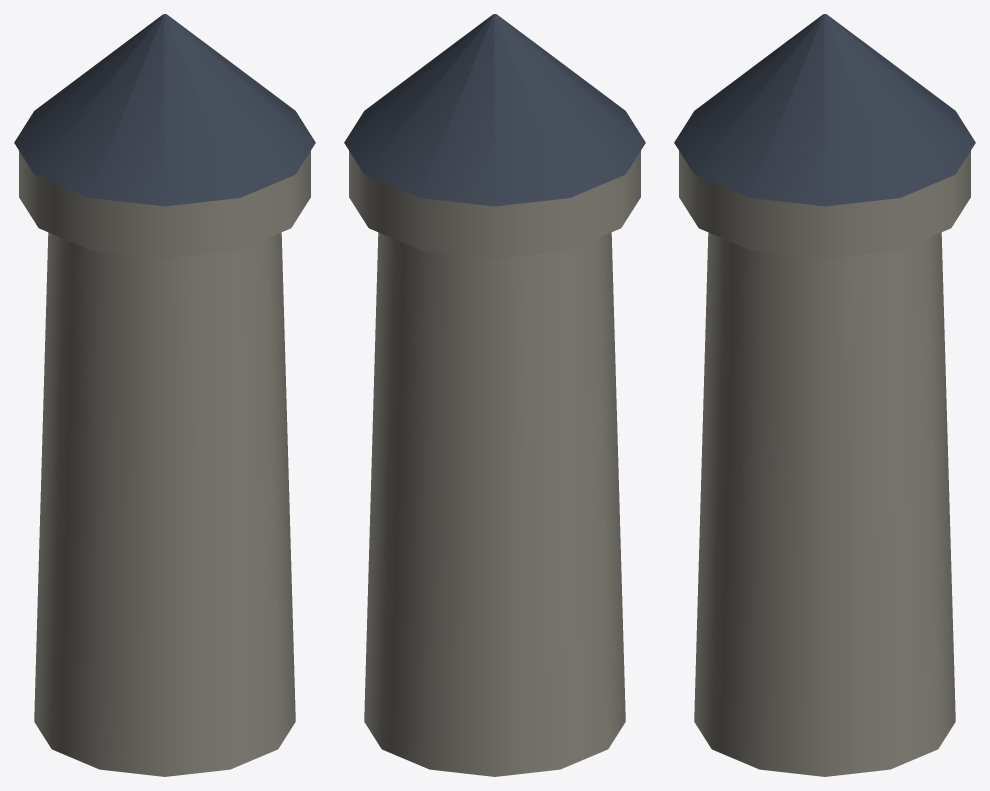
The model's file is bld_special_tower_a03.glb.
3 renders of one model, left to right at view 1: azimuth 30°, elevation 25°; view 2: azimuth 150°, elevation 25°; view 3: azimuth 270°, elevation 25°, orthographic.
Parts seen in each view (by area): view 1: body; view 2: body; view 3: body.
Boxes of the visible parts, bbox=[...] form: body: bbox=[14, 14, 315, 776]; body: bbox=[344, 14, 645, 776]; body: bbox=[674, 14, 975, 776].
Size of what is drawn, in the model's own units: 6 by 15.5 by 6.
